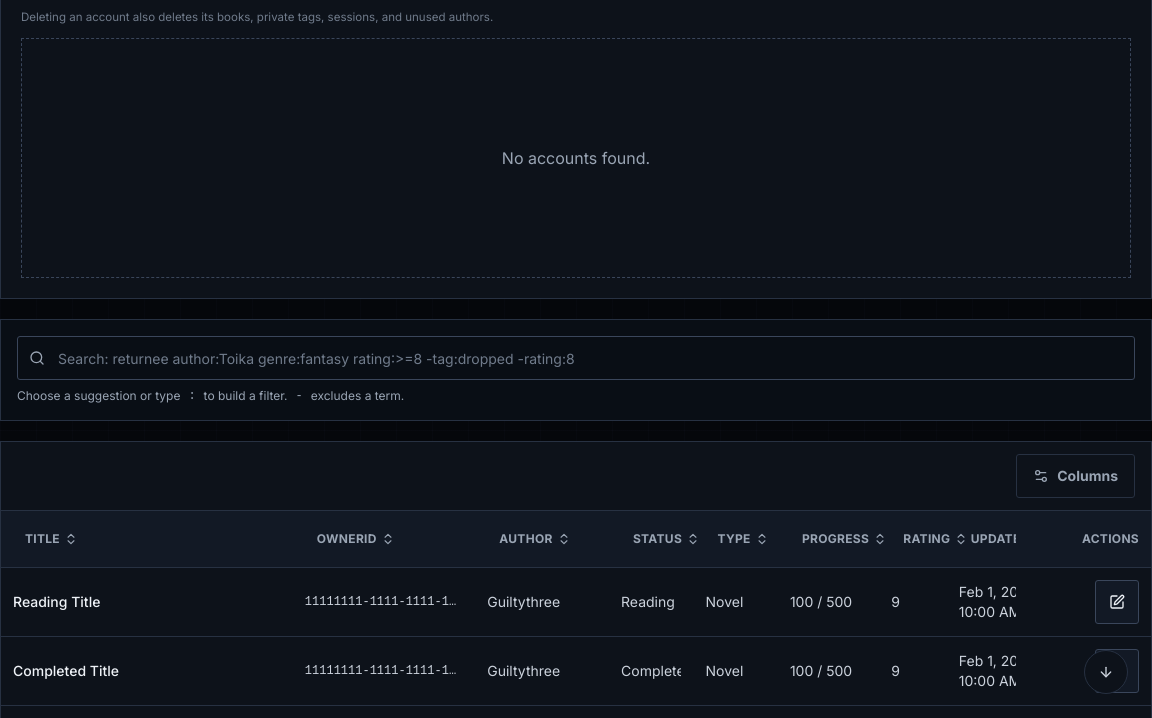
Test case: AdminPage › filters admin books by typed status query
(page scrolled)
expect the text "Reading Title" is shown: met, box 13,593 -> 100,610
Step 1. Type "status:completed" into the dropdown with placeholder "rating:>=8" → (576, 358), box 17,336 -> 1135,380
(page scrolled)
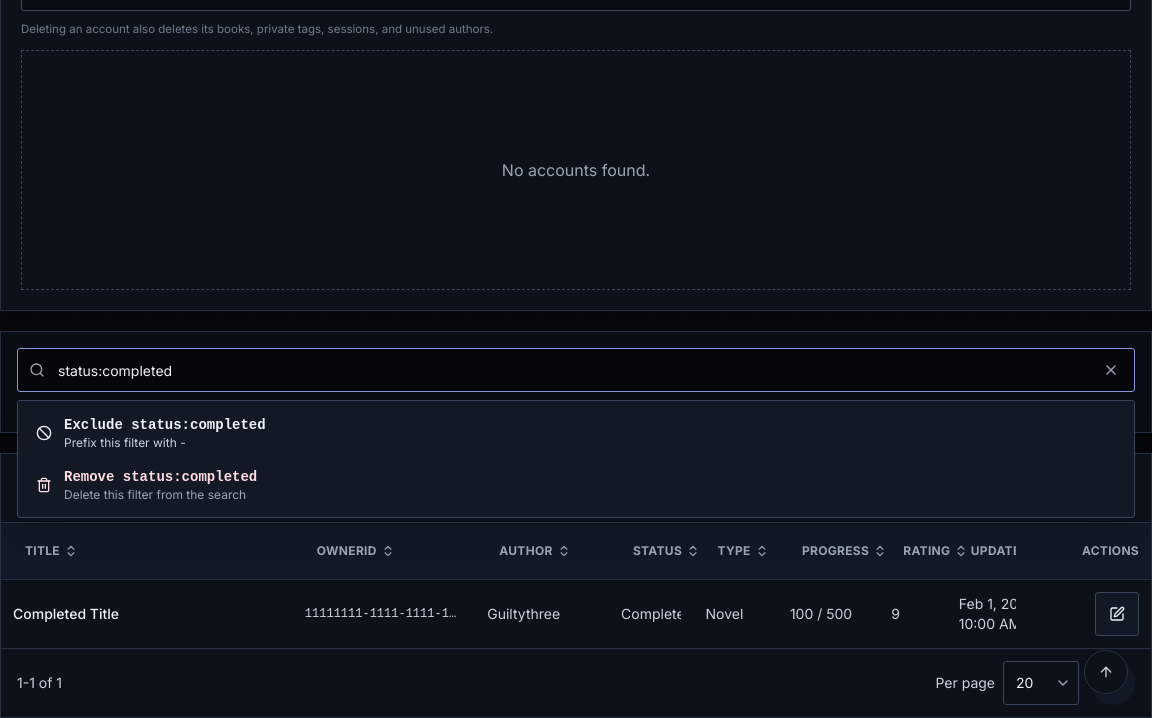
expect the text "Completed Title" is shown: met, box 13,605 -> 119,622
expect the text "Reading Title" is gone: met
